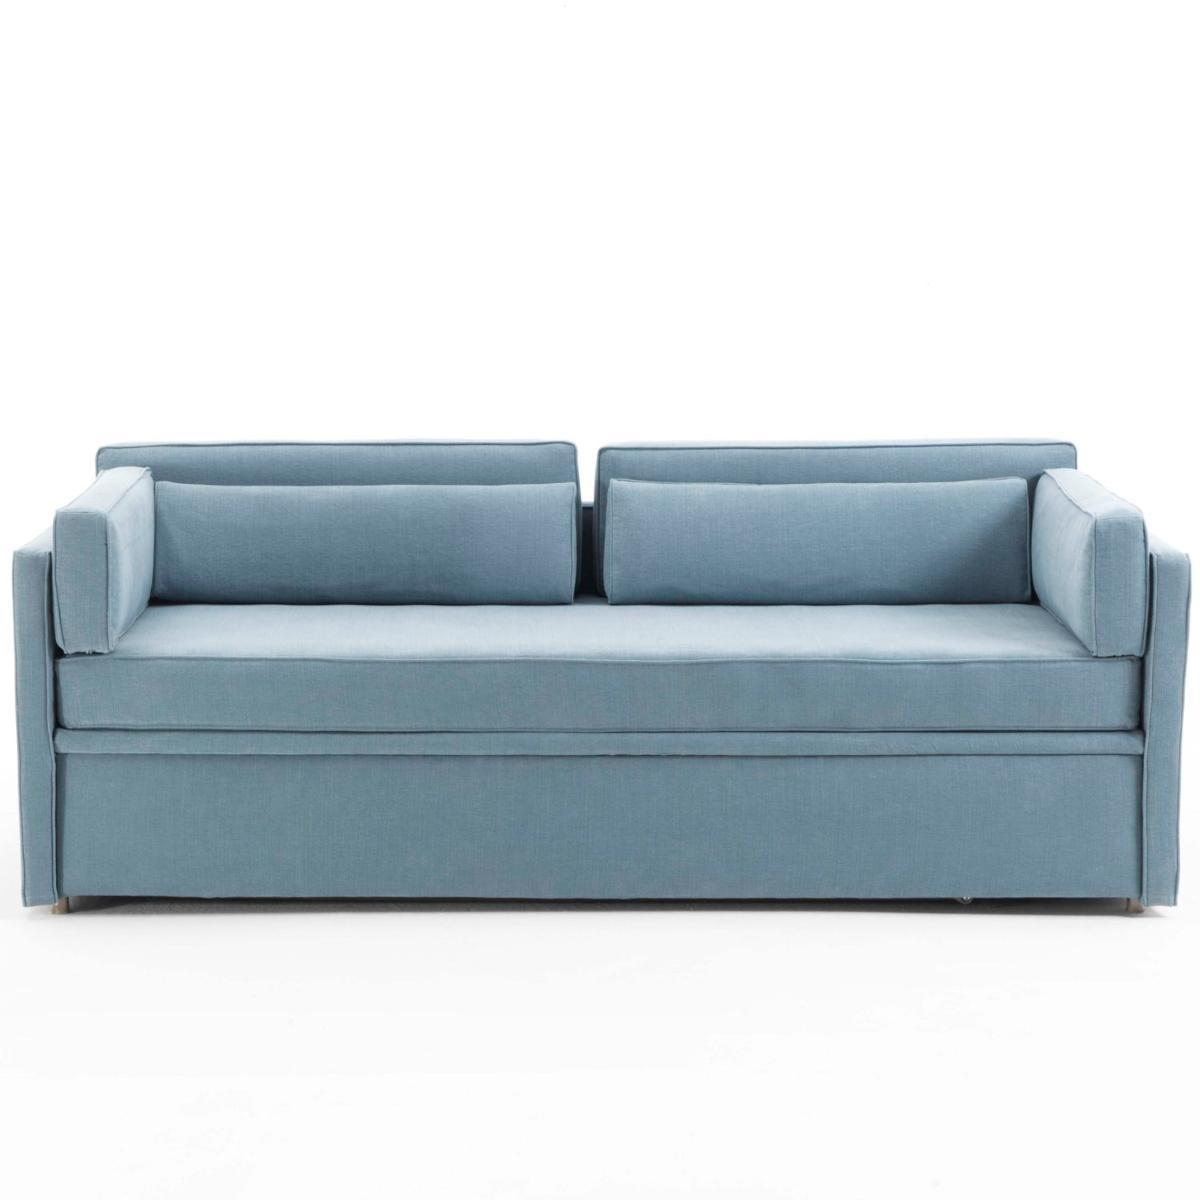Sofa: (11, 438, 1187, 925)
